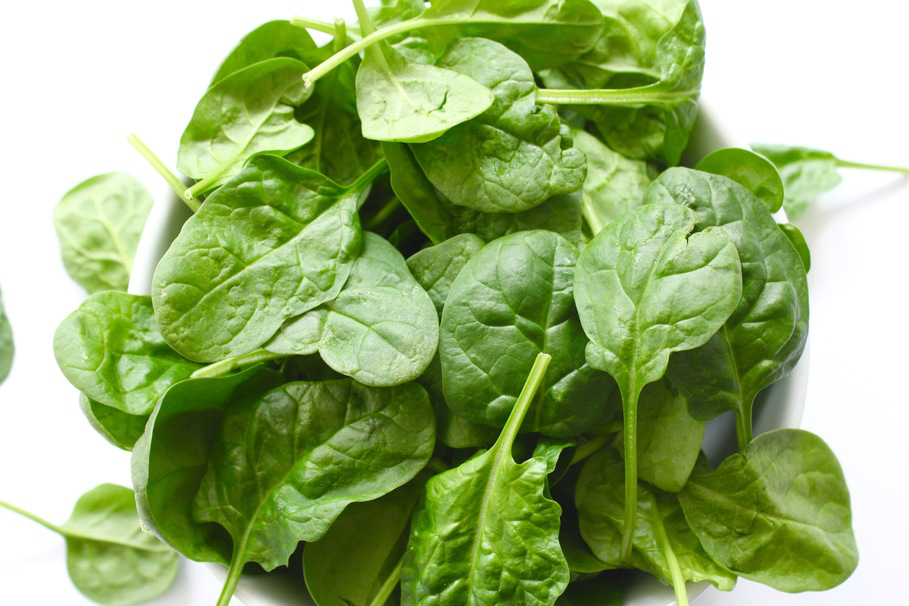Bayam: (158, 66, 834, 587)
